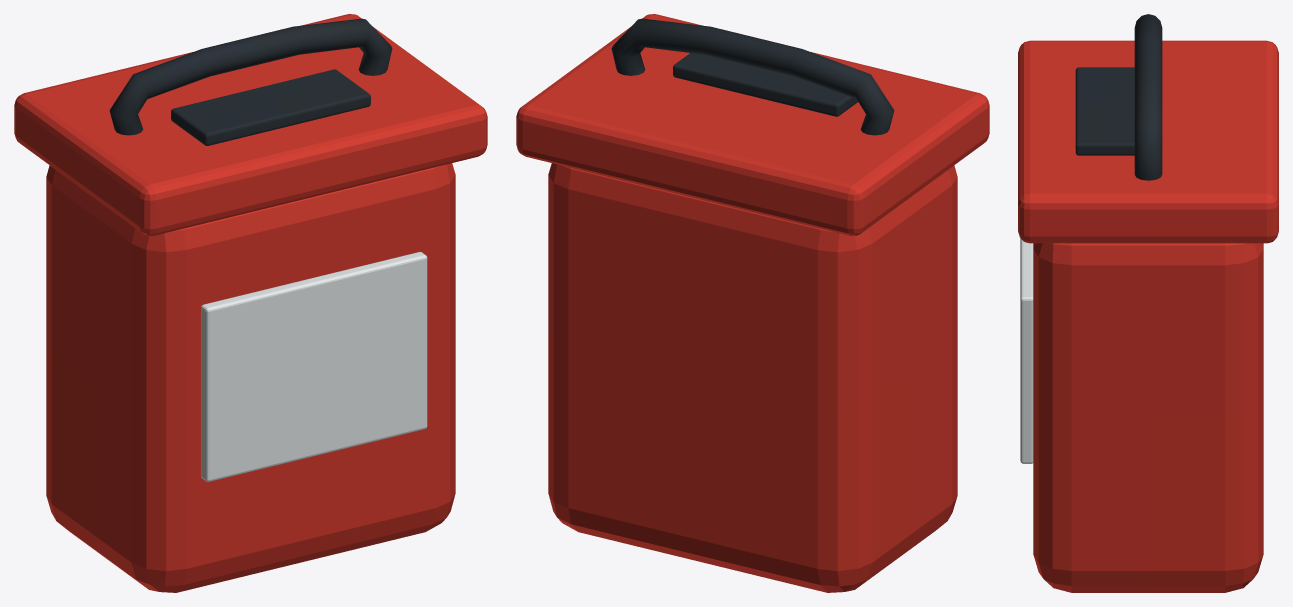
Rendered from sharps-disposal-container.glb.
The picture shows the model from 3 angles, left to right: view 1: azimuth 30°, elevation 25°; view 2: azimuth 150°, elevation 25°; view 3: azimuth 270°, elevation 25°; orthographic projection. The views are drawn at different scales.
Visible parts, largest first — view 1: Sharps container body, Sharps secure lid, Blank identification label, Container carry handle, Disposal slot; view 2: Sharps container body, Sharps secure lid, Container carry handle, Disposal slot; view 3: Sharps container body, Sharps secure lid, Disposal slot, Container carry handle, Blank identification label.
Boxes of the visible parts, x1,y1,x2,y2 form: Sharps container body: (46, 163, 455, 592); Sharps secure lid: (14, 14, 487, 235); Blank identification label: (201, 252, 427, 481); Container carry handle: (109, 18, 392, 135); Disposal slot: (171, 69, 370, 145); Sharps container body: (548, 163, 957, 592); Sharps secure lid: (516, 14, 989, 235); Container carry handle: (611, 18, 894, 135); Disposal slot: (673, 53, 857, 116); Sharps container body: (1033, 243, 1263, 592); Sharps secure lid: (1018, 40, 1278, 243); Disposal slot: (1075, 67, 1134, 155); Container carry handle: (1134, 14, 1162, 180); Blank identification label: (1020, 238, 1033, 463).
Size of the model in its own units: 0.25 by 0.3395 by 0.17.
3 materials, 3 textured.
